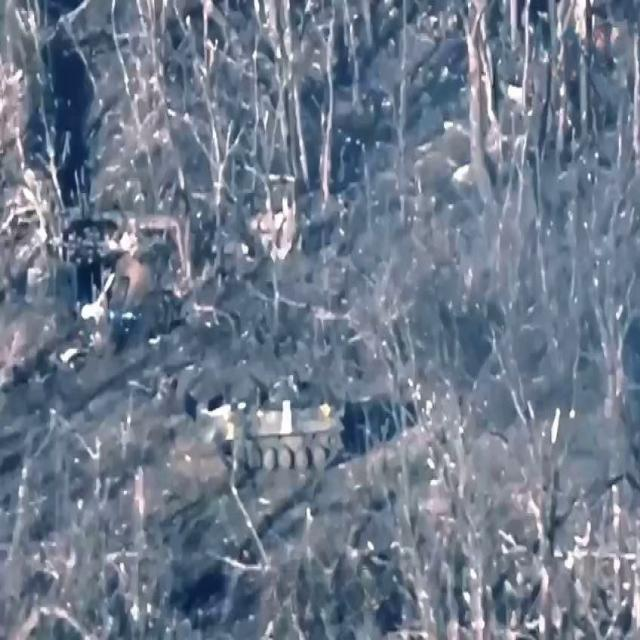AIFV: (201, 366, 351, 480)
